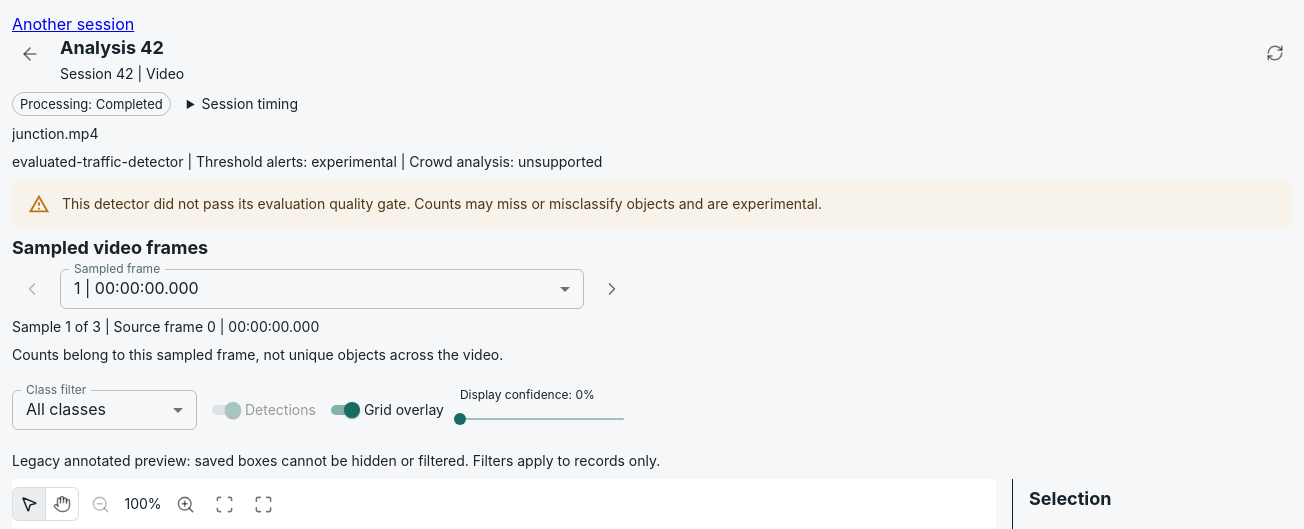
Test: ResultsPage › resets video selection when opening another session
Select "3 | 00:00:05.000" in the dropdown labelled "Sampled frame" at x=322, y=289, box [60, 269, 584, 309]
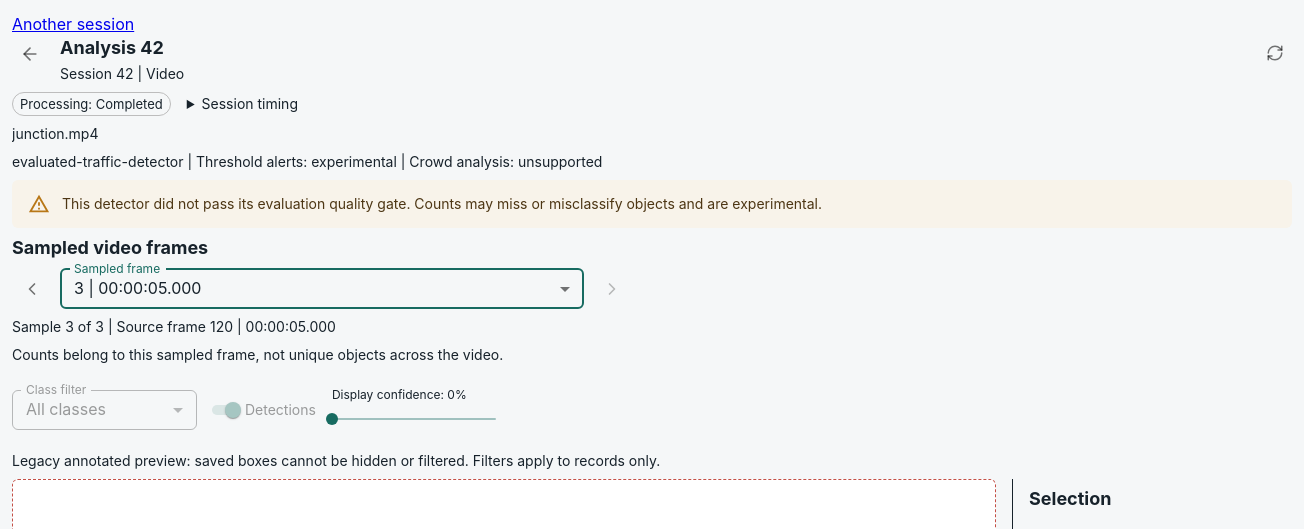
Click the link "Another session" at x=73, y=24, box [12, 14, 134, 34]
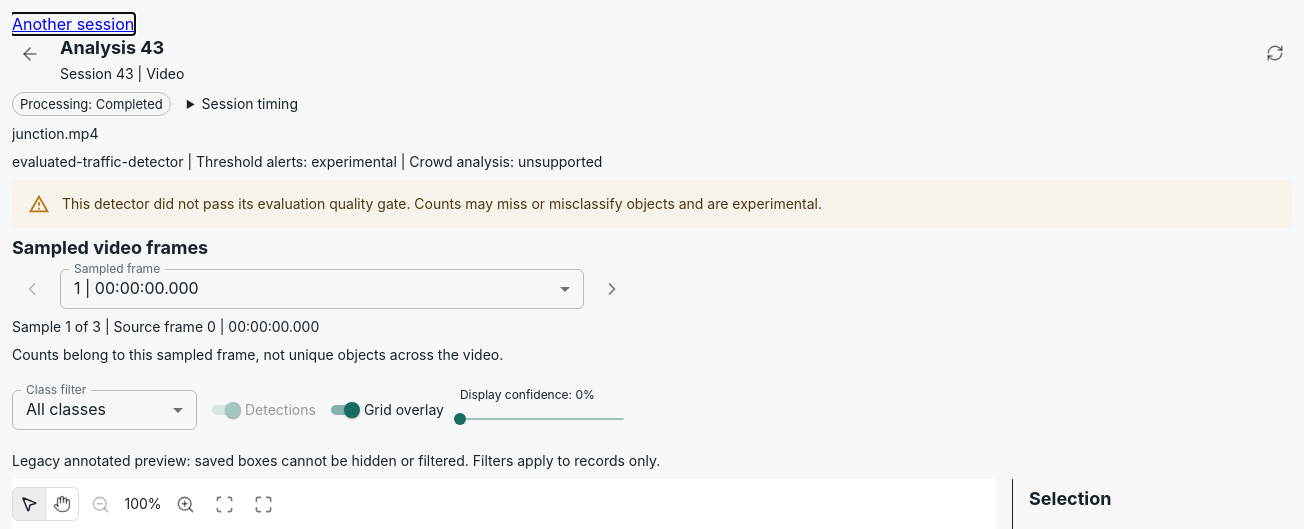
Expected: the heading "Analysis 43" is shown, [60, 37, 164, 58]
Expected: the dropdown labelled "Sampled frame" shows "1 | 00:00:00.000", [60, 269, 584, 309]
